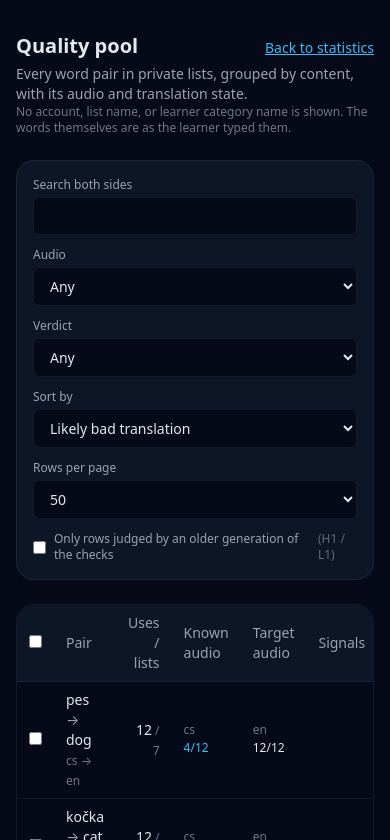
Test: AdminQualityPoolPage › records the known side of every selected pair, one request each
Click the checkbox named "Select every row on this page". click: (36,642)
box: x1=29 y1=635 x2=42 y2=648
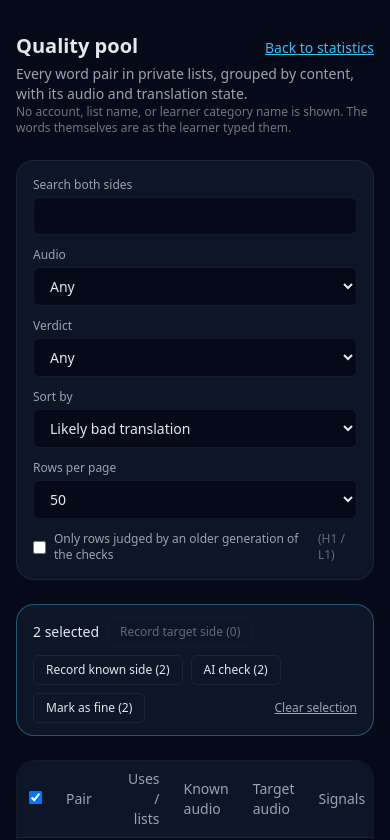
Click the button "Record known side (2)". click: (108,670)
box: x1=33 y1=655 x2=182 y2=685
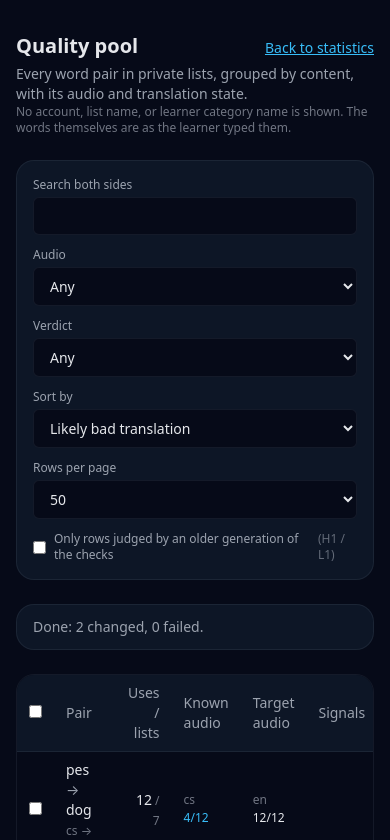
Expected: the text "2 selected" is gone
